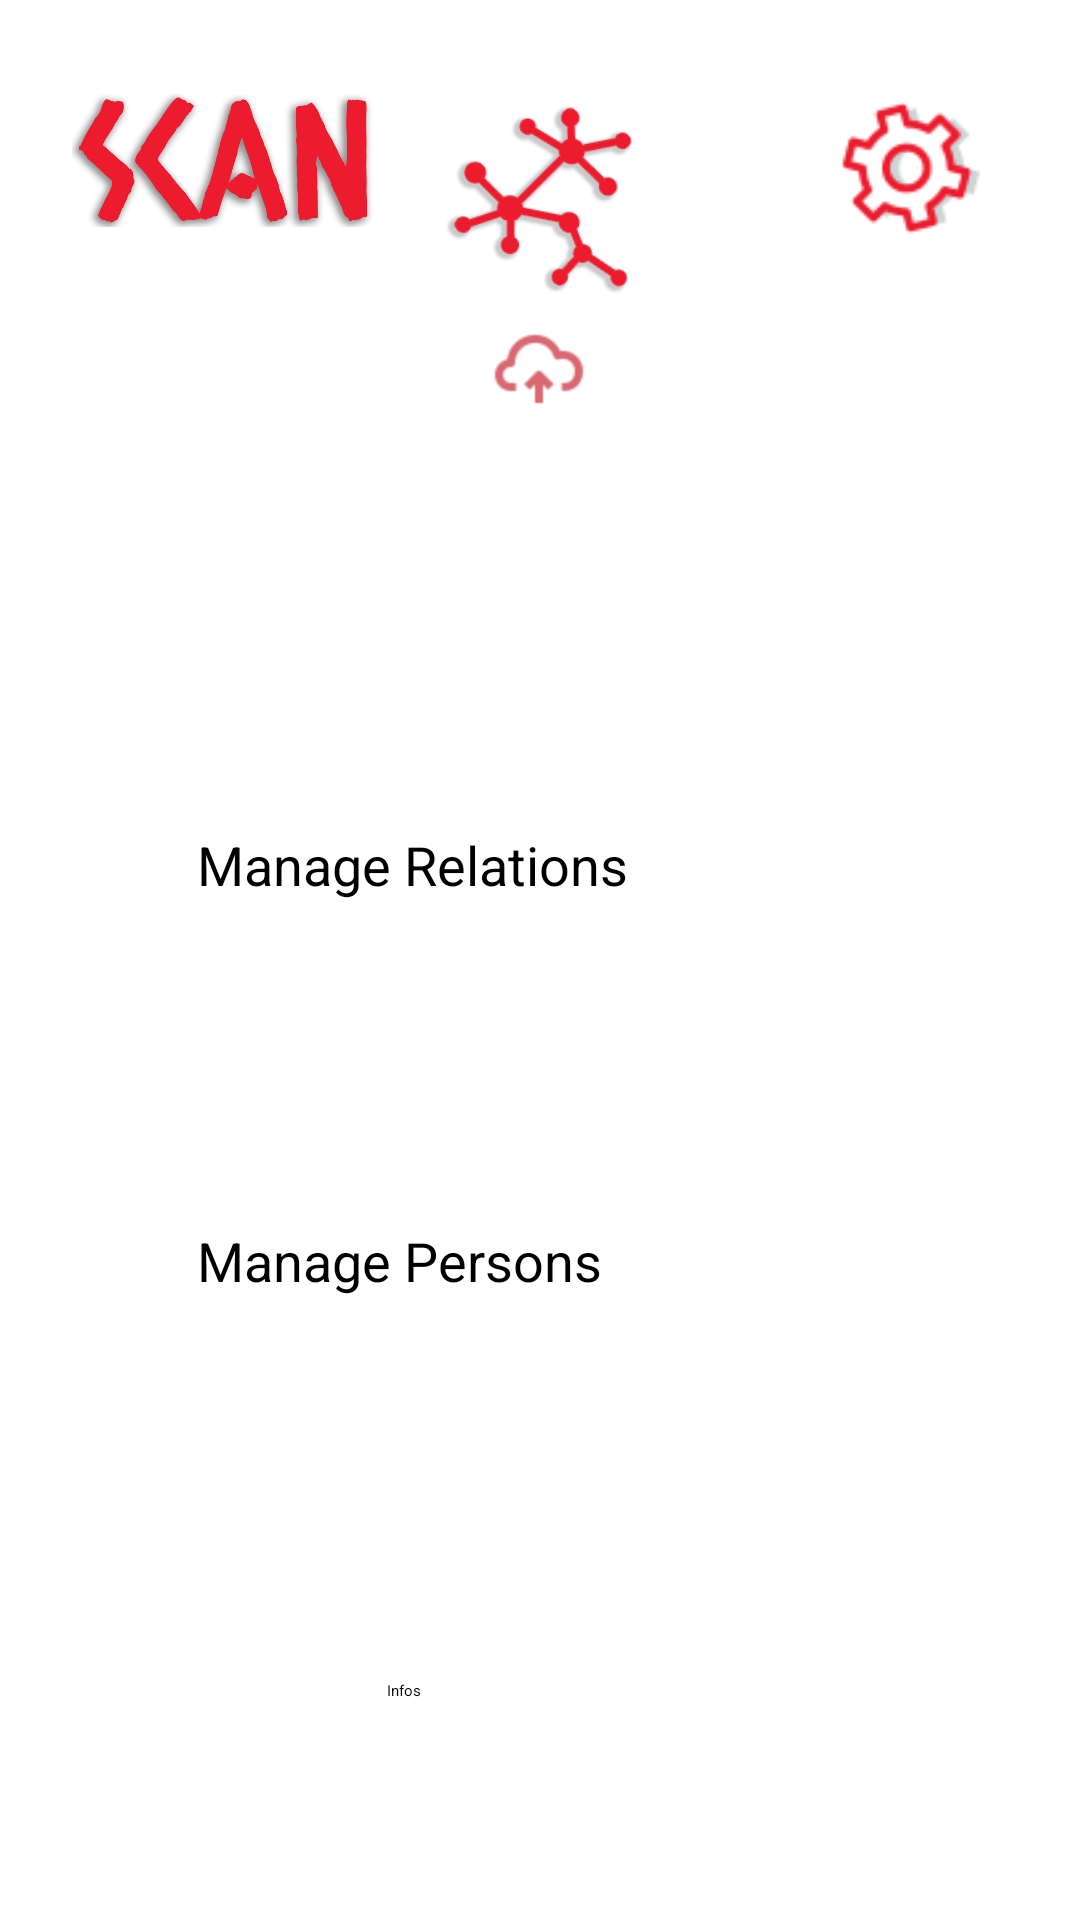

Point at icon controls on the screen. Image size 1080 × 1920, points as point (x, y).
cloud: point (539, 369)
settings: point (910, 168)
